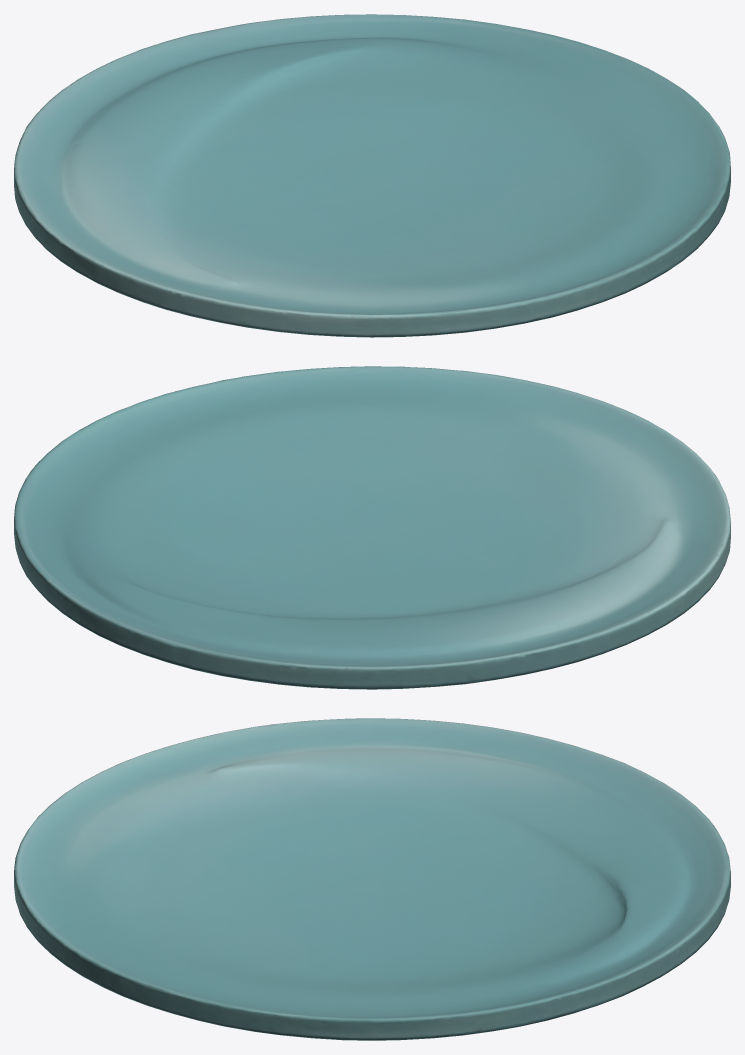
File: tripo_convert_f9b7b303-9be0-414a-bda8-a07d5f601c48.fbx
3 views of the same model, one above another, from view 1: azimuth 30°, elevation 25°; view 2: azimuth 150°, elevation 25°; view 3: azimuth 270°, elevation 25° (orthographic).
Visible parts, largest first — view 1: tripo_node_f9b7b303; view 2: tripo_node_f9b7b303; view 3: tripo_node_f9b7b303.
Boxes of the visible parts, x1,y1,x2,y2 form: tripo_node_f9b7b303: (14, 14, 730, 337); tripo_node_f9b7b303: (14, 366, 730, 689); tripo_node_f9b7b303: (14, 718, 730, 1040).
Size of the model in its own units: 0.9799 by 0.0666 by 0.9802.
1 material, 1 textured.
